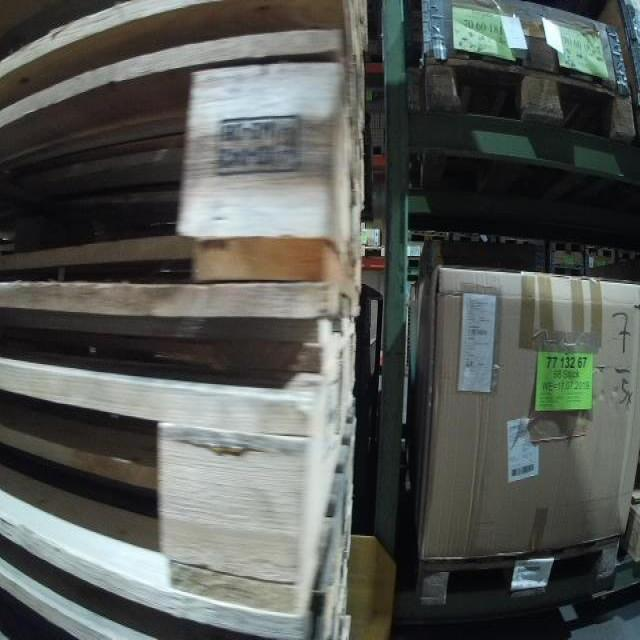pallet: (1, 46, 342, 321), (3, 348, 316, 633), (421, 53, 636, 144), (414, 537, 622, 609), (409, 229, 451, 245), (549, 236, 584, 255), (551, 263, 584, 277), (584, 245, 614, 259), (616, 245, 640, 259)
